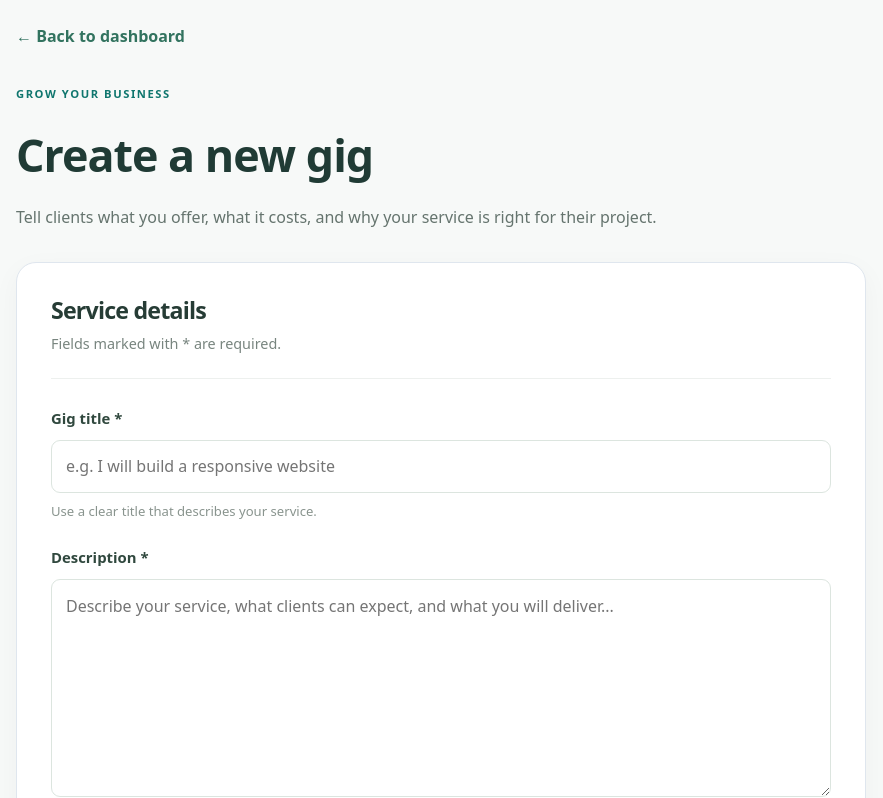
CreateGig Component › validates minimum title length requirement on submit
Type "Hi" into the field labelled "Gig title *" at (441, 466), box [51,440,831,493]
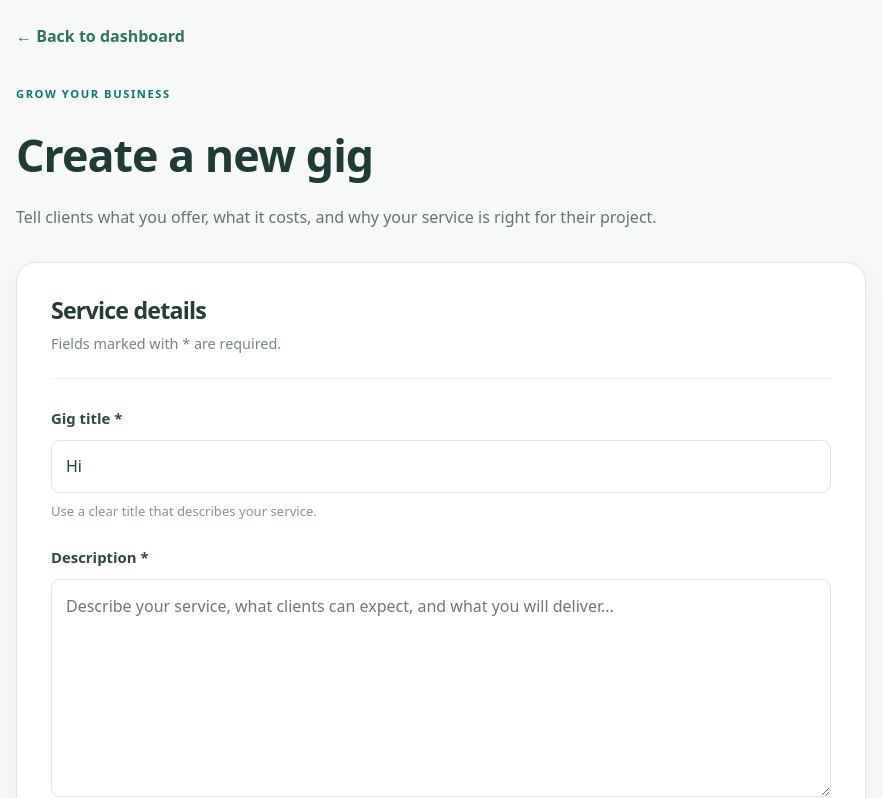
Replace the text in the text box labelled "Description *" with "This is a description with more than 20 characters." at (441, 688), box [51,579,831,797]
(page scrolled)
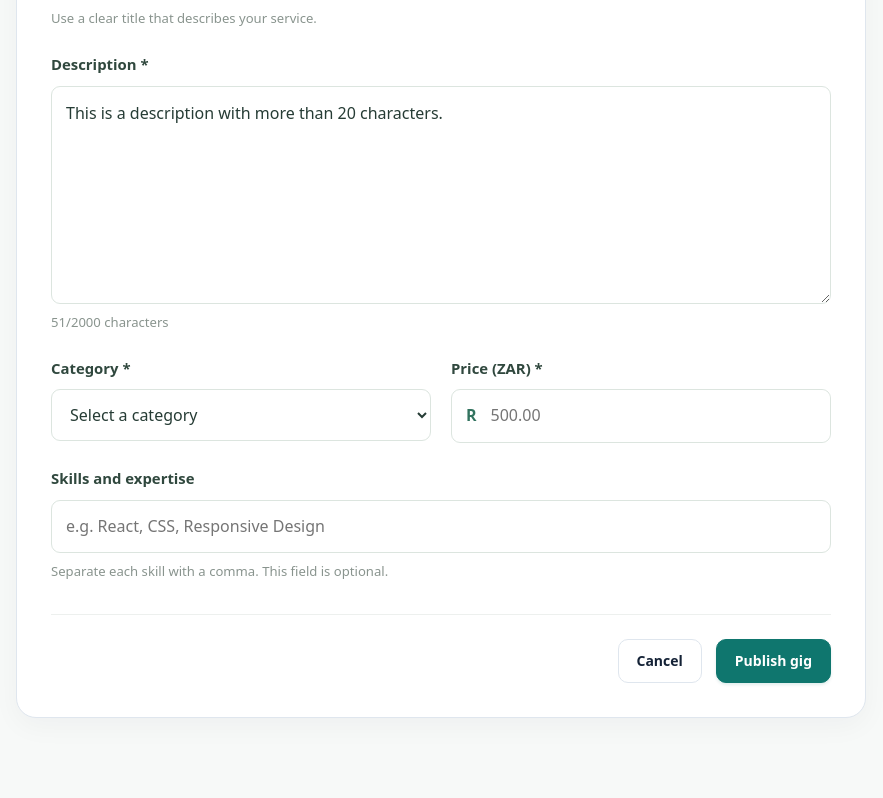
Select "Web Development" in the dropdown labelled "Category *" at (241, 416), box [51,390,431,442]
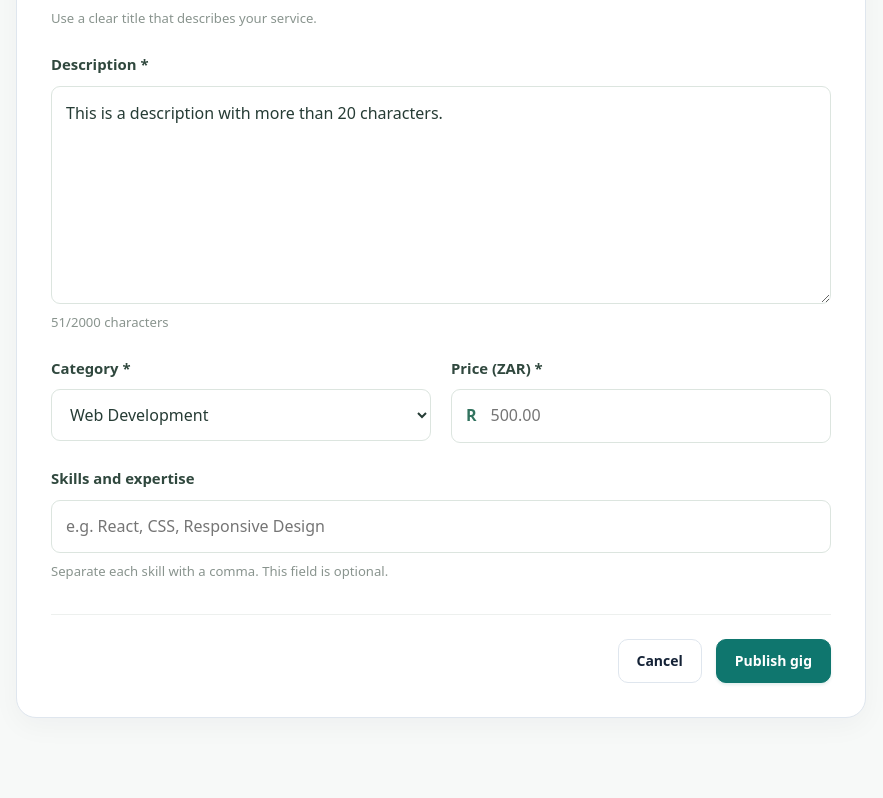
Type "450" into the number field labelled "Price (ZAR) *" at (653, 416), box [477,390,830,442]
(page scrolled)
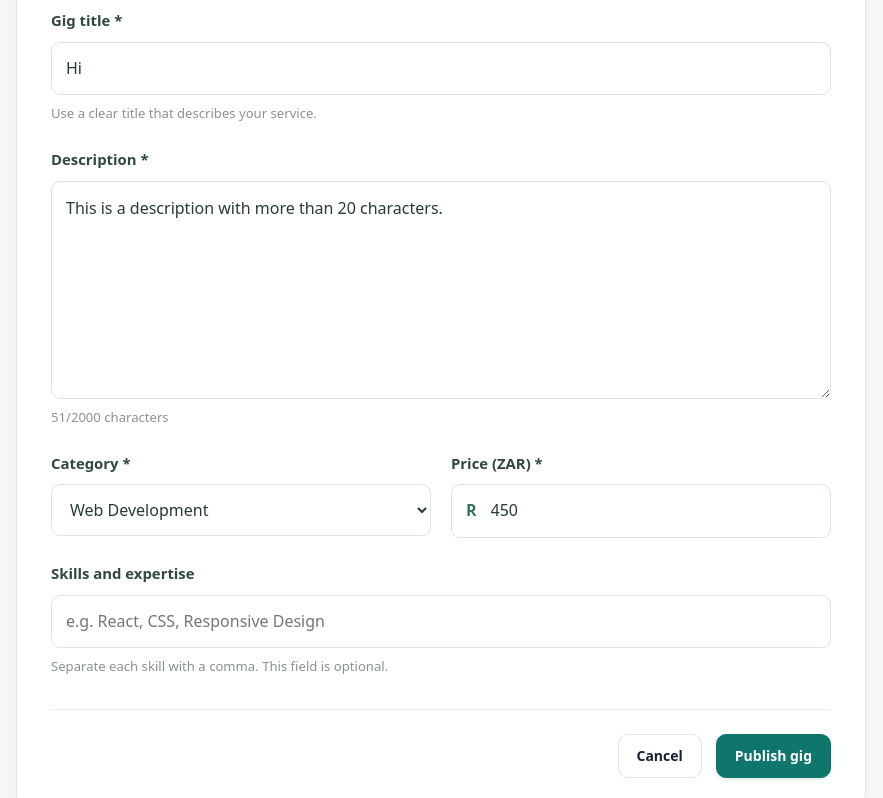
Submit the form named "Publish gig"
(page scrolled)
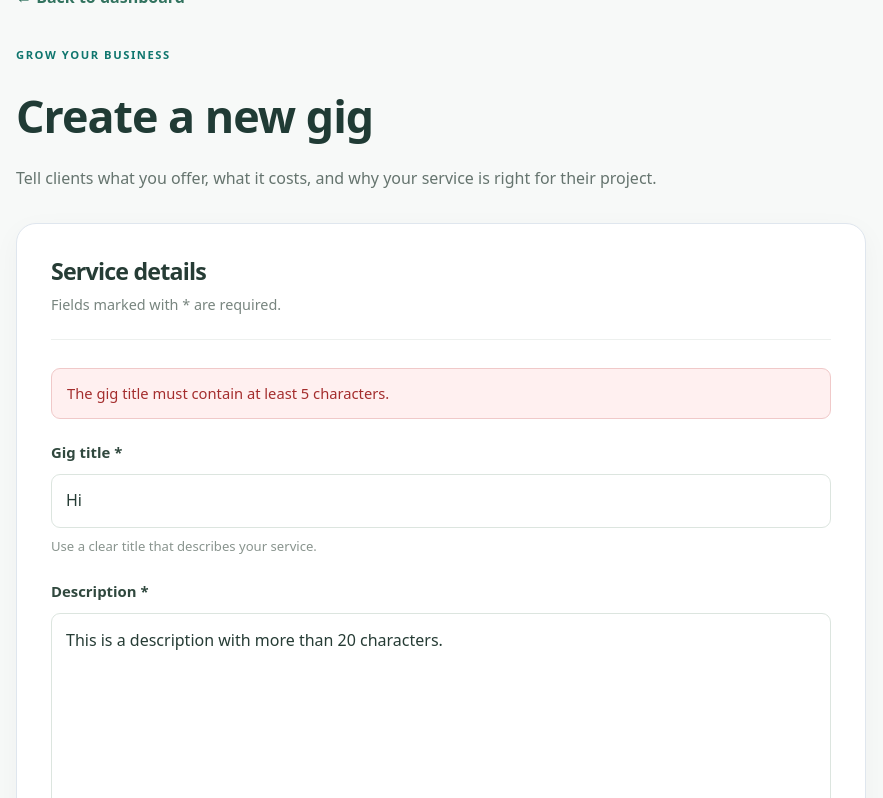
expect the text "The gig title must contain at least 5 characters." is shown: met, box [51,368,831,419]
